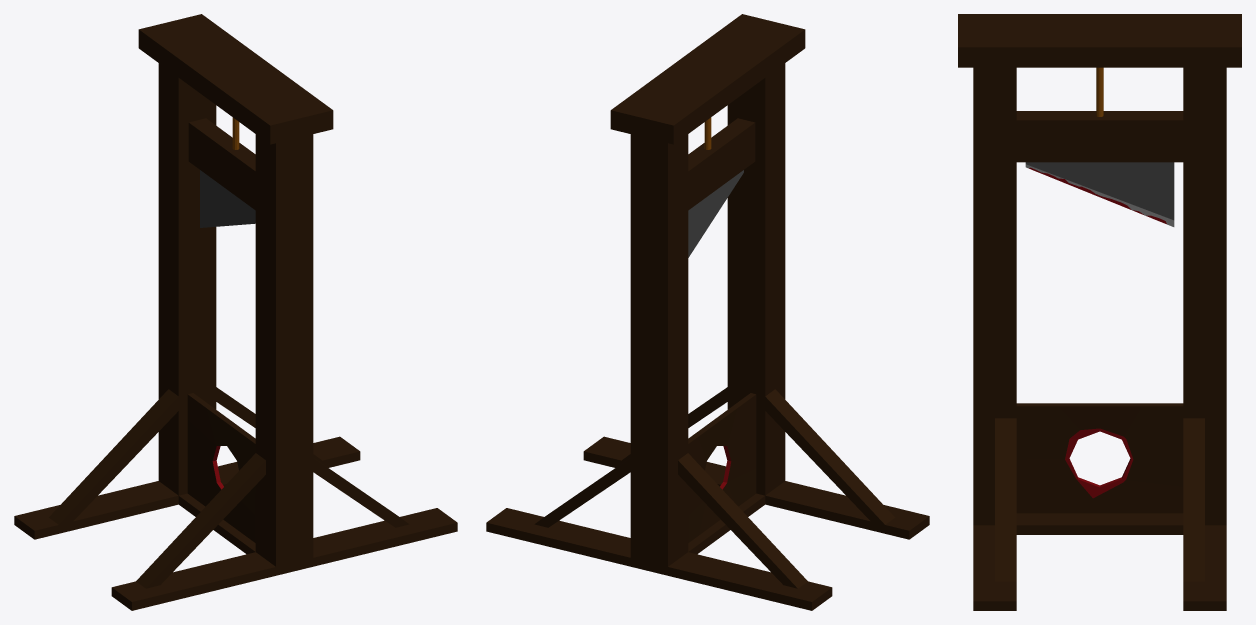
Rendered from Guillotine.fbx.
3 views of the same model, side by side, from view 1: azimuth 30°, elevation 25°; view 2: azimuth 150°, elevation 25°; view 3: azimuth 270°, elevation 25° (orthographic). The views are drawn at different scales.
Parts seen in each view (by area): view 1: Guillotine; view 2: Guillotine; view 3: Guillotine.
Boxes of the visible parts, x1=… form: Guillotine: x1=14, y1=14, x2=457, y2=610; Guillotine: x1=486, y1=14, x2=929, y2=610; Guillotine: x1=958, y1=14, x2=1241, y2=610.
Size of the model in its own units: 1275 by 1715 by 891.
